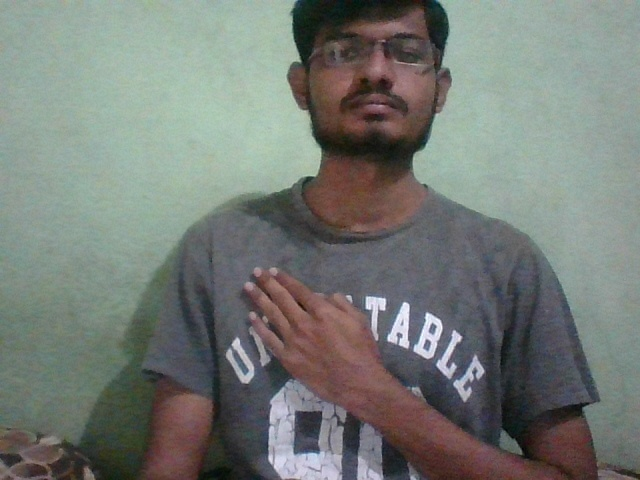no: (229, 262, 411, 401)
